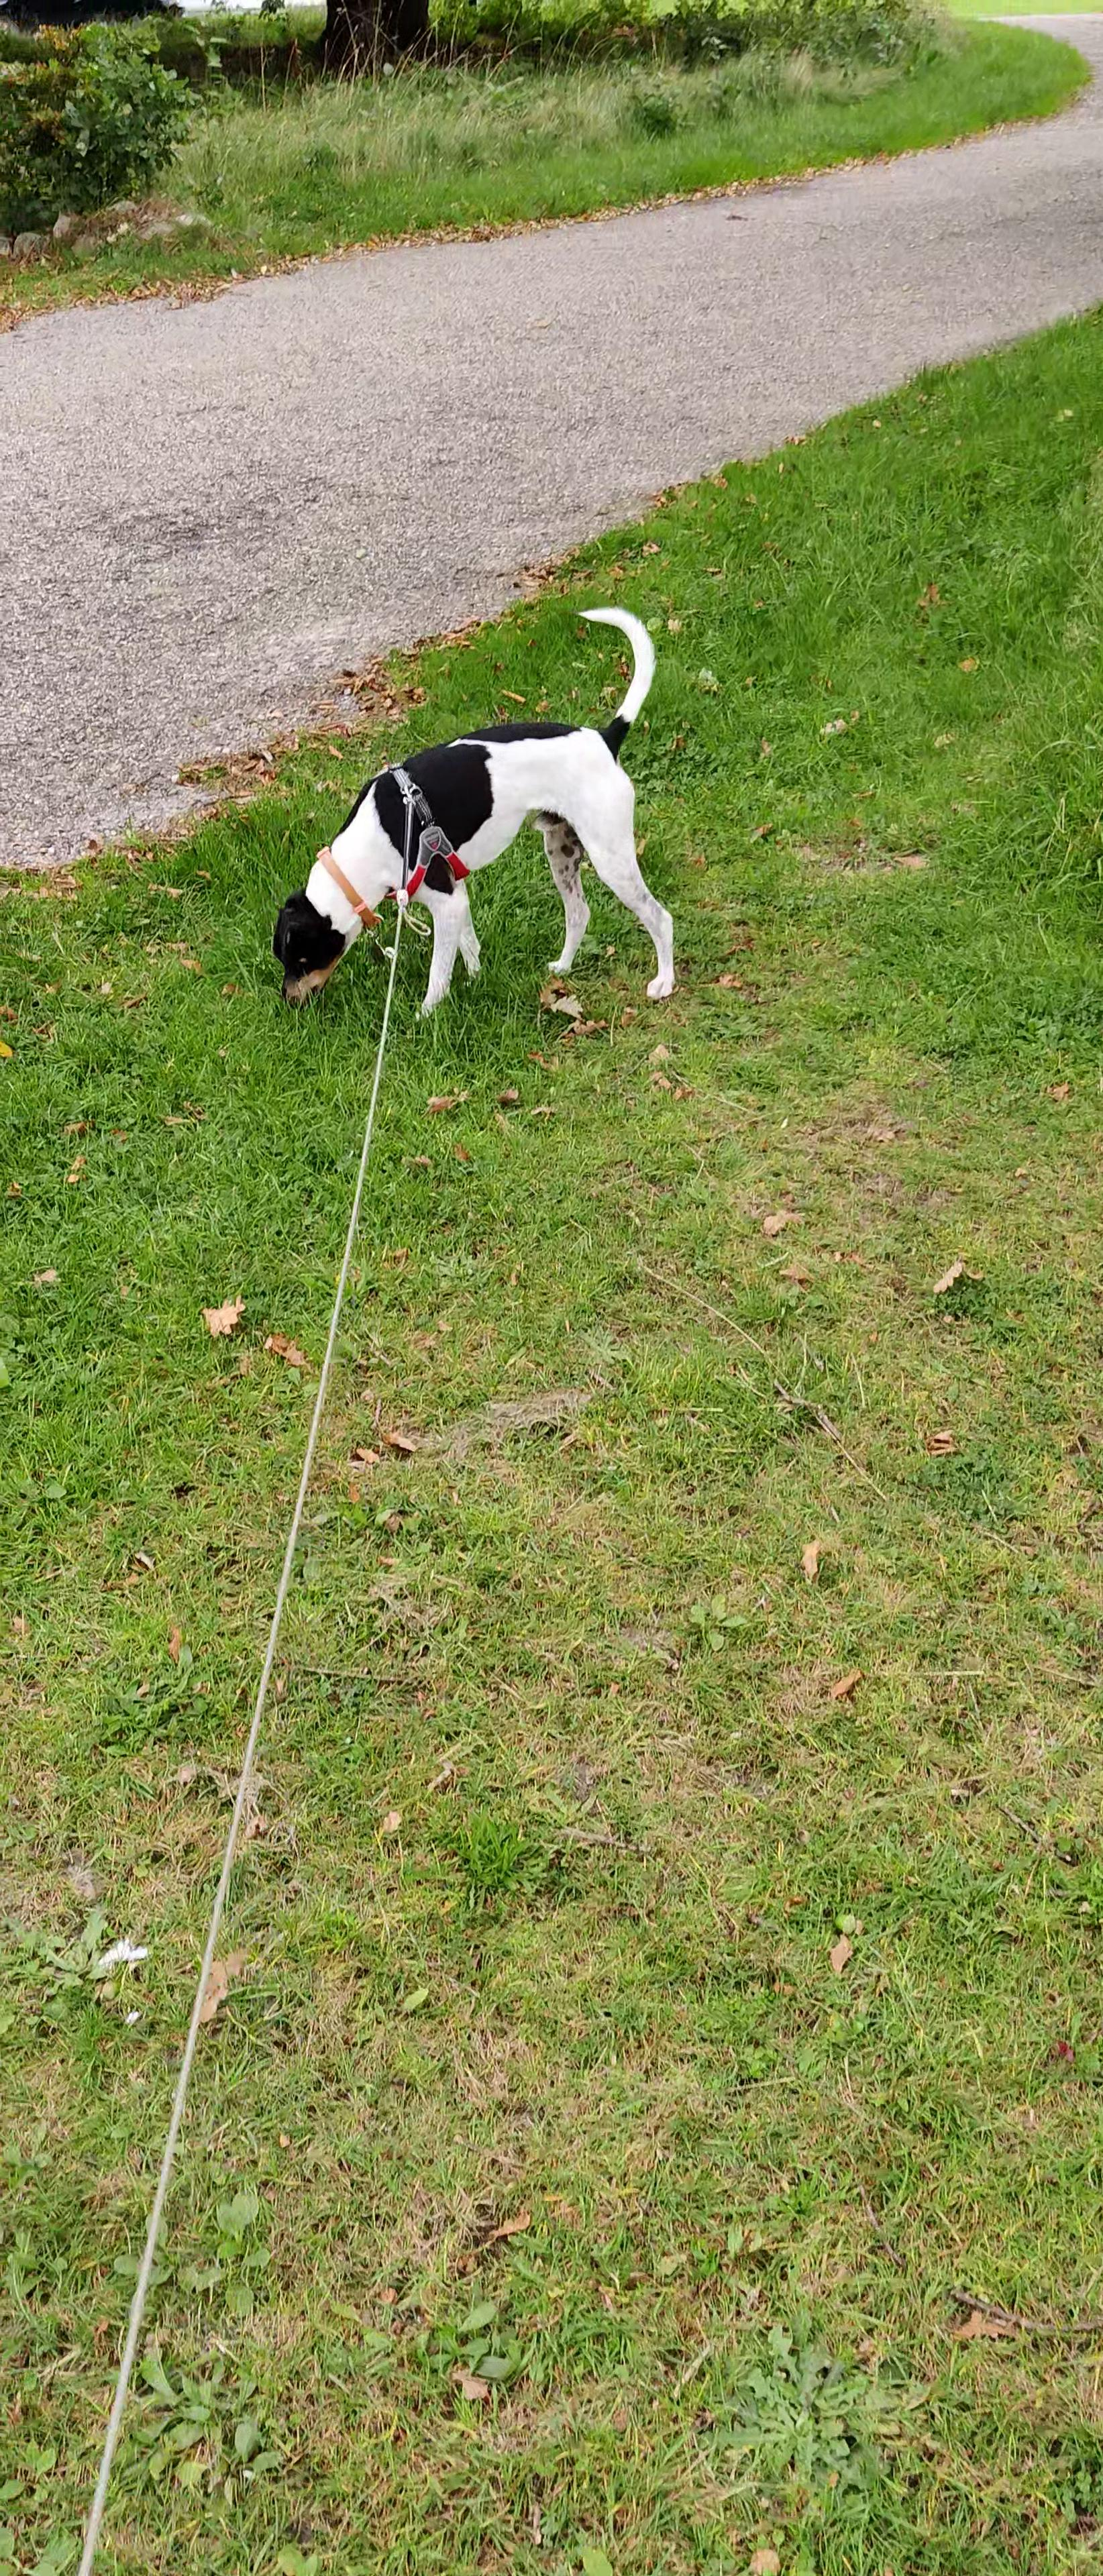Dog: (263, 586, 682, 1033)
